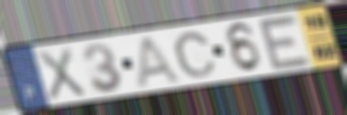3: (81, 40, 125, 95)
6: (225, 21, 263, 74)
A: (134, 34, 185, 88)
C: (172, 30, 219, 79)
E: (255, 14, 315, 72)
X: (34, 45, 90, 103)
